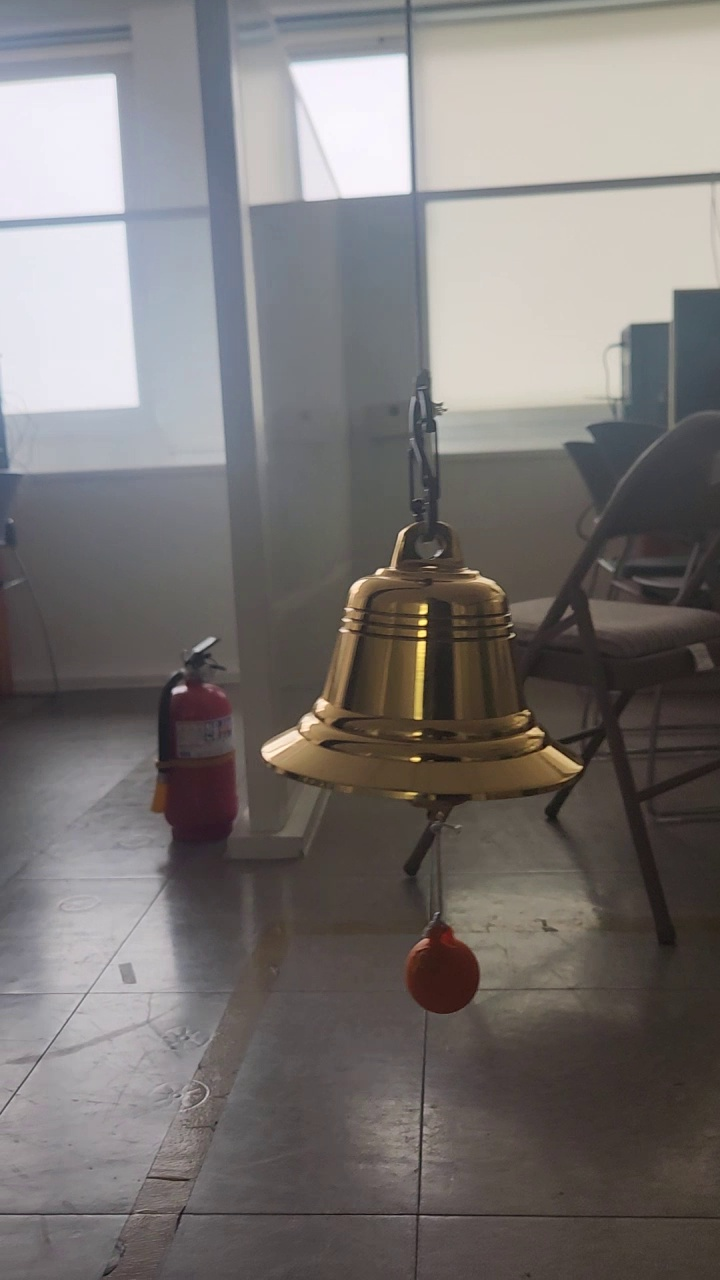bell: (256, 532, 589, 806)
